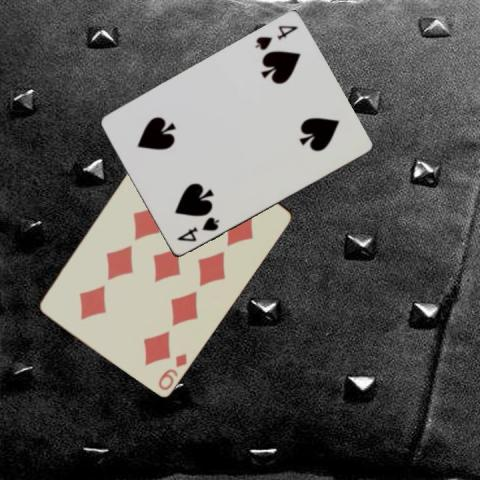4s: (174, 214, 221, 244), (252, 23, 300, 52)
9d: (154, 350, 188, 391)
